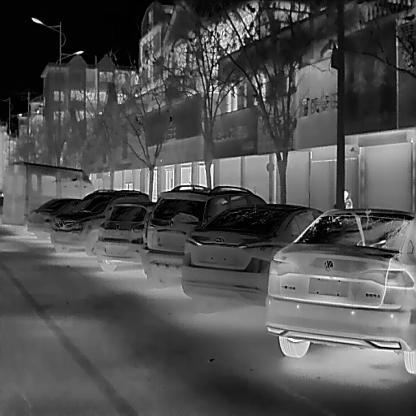car: (265, 208, 416, 374), (180, 203, 322, 316), (141, 182, 266, 290), (51, 188, 152, 256), (1, 161, 95, 232), (95, 201, 157, 272), (26, 198, 87, 242)
